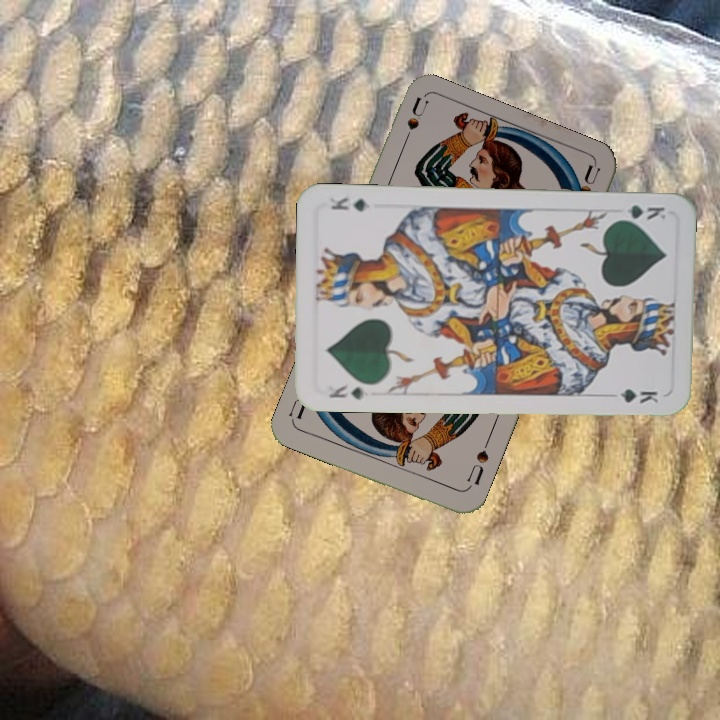GK: (611, 200, 668, 223), (325, 380, 367, 402)
SU: (397, 95, 432, 153), (463, 435, 492, 492)
